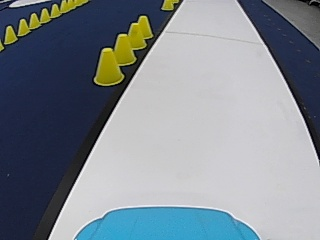cone: (92, 47, 123, 85), (111, 33, 136, 65), (125, 22, 146, 49), (135, 14, 153, 39), (3, 25, 17, 44), (17, 18, 29, 35), (28, 12, 40, 28), (39, 7, 50, 22), (50, 3, 60, 17), (160, 0, 173, 10), (60, 0, 68, 12)
